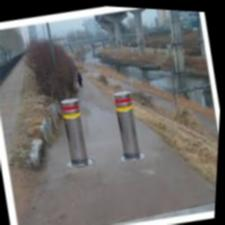Animal: (98, 70, 156, 174), (56, 98, 96, 175)
